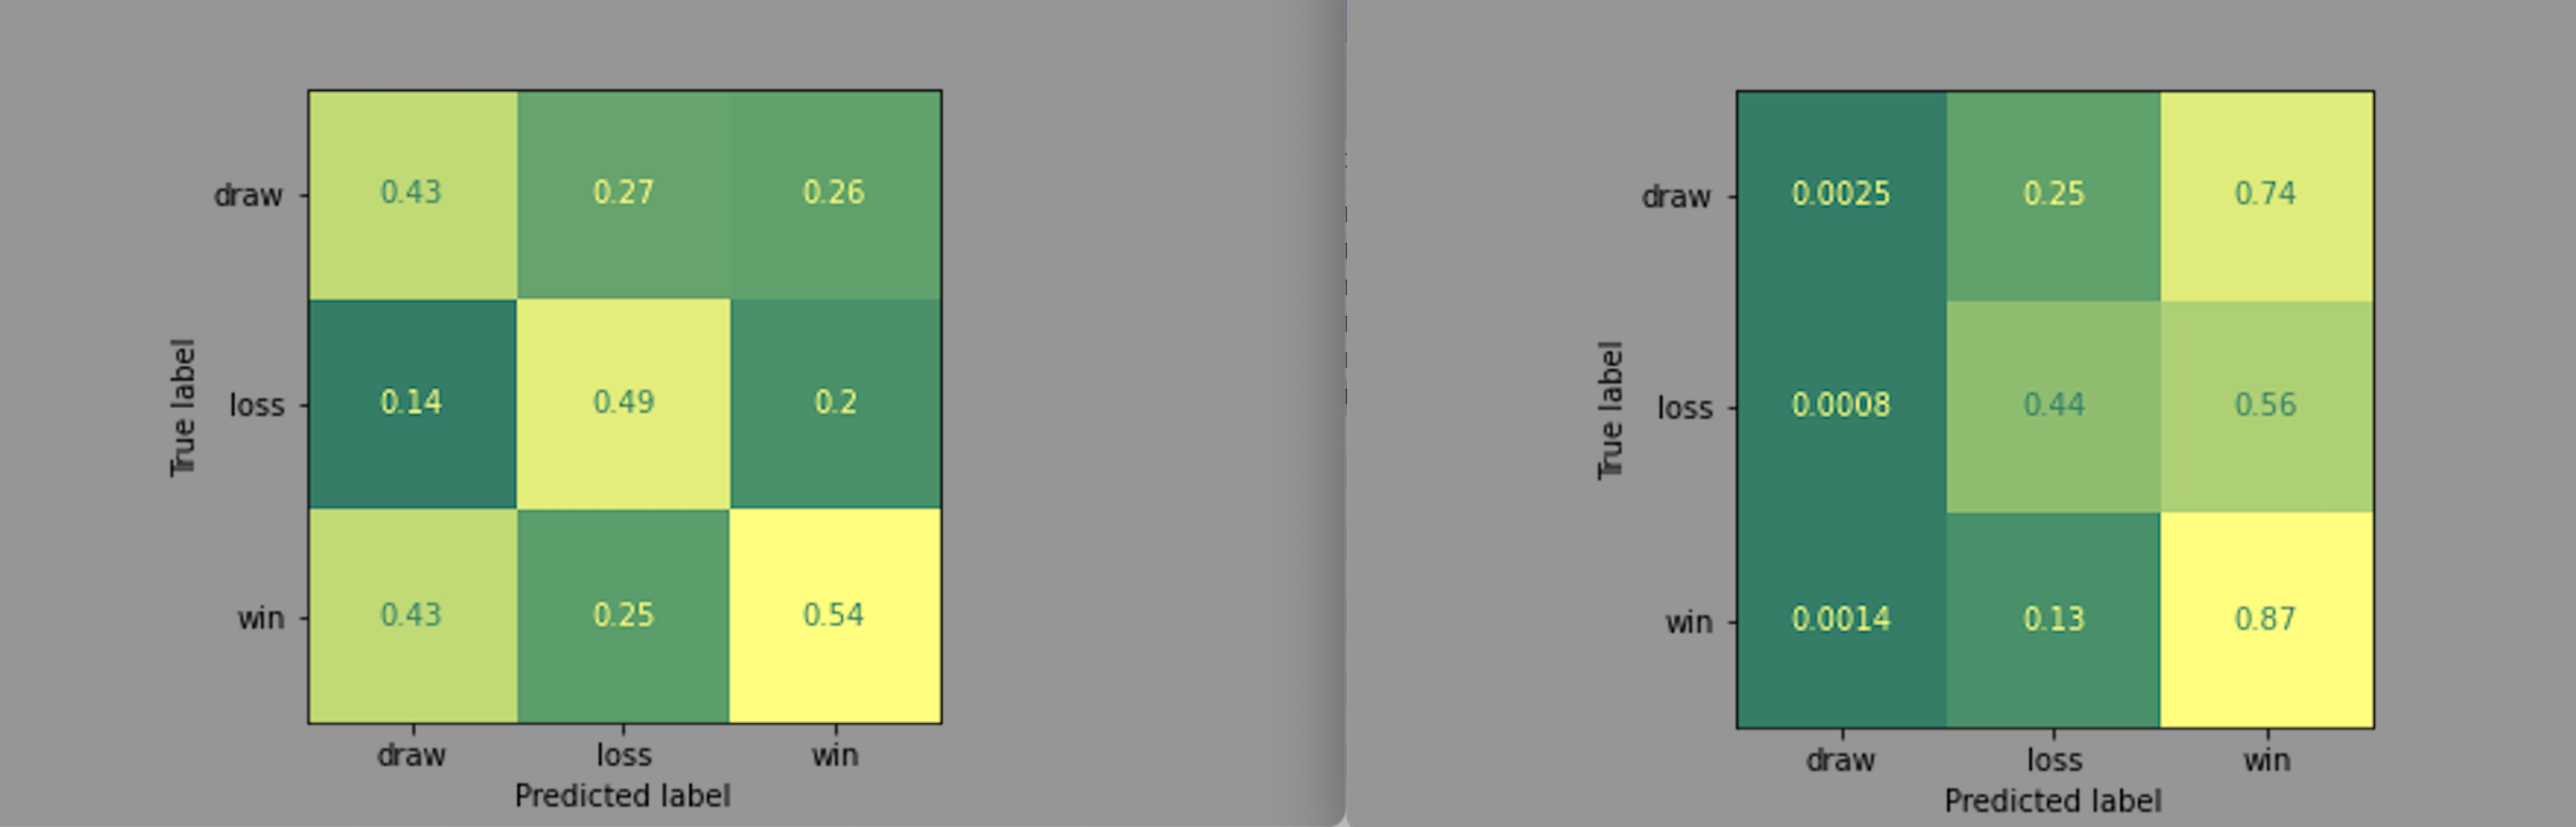

What the dashboard file says about the page in this screenshot:
{"tool":"tableau","page":{"name":"Dashboard 1","canvas":[1300,800],"ordinal":0},"visuals":[{"type":"worksheet","title":"mancity stamina","mark":"Automatic","rows":["player_name"],"cols":["stamina"],"box":[704,63,580,337]},{"type":"worksheet","title":"liverpool stamina","mark":"Automatic","rows":["player_name"],"cols":["stamina"],"box":[29,64,618,339]}]}

Visuals, with their boxes on the page's 1300x800 design canvas (x1, y1, x2, y2). These are canvas units, not pixel positions in the 2576x827 screenshot, which may show the page scaled, cropped or inside an application window:
"mancity stamina" worksheet: bbox(704, 63, 1284, 400)
"liverpool stamina" worksheet: bbox(29, 64, 647, 403)
